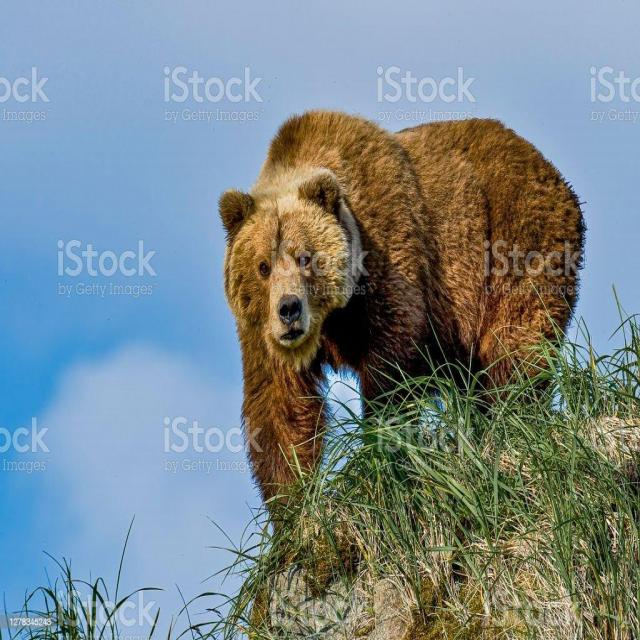Bear: (218, 110, 586, 503)
